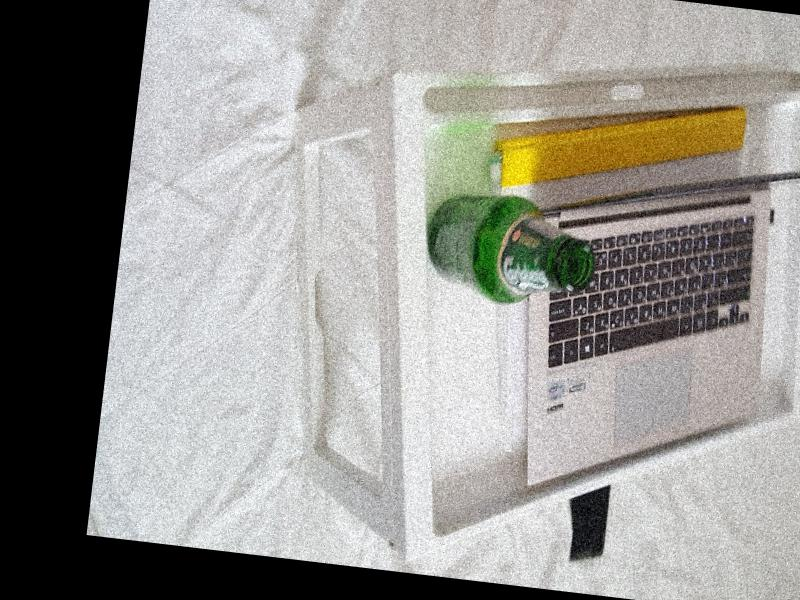Beer: (420, 187, 600, 311)
